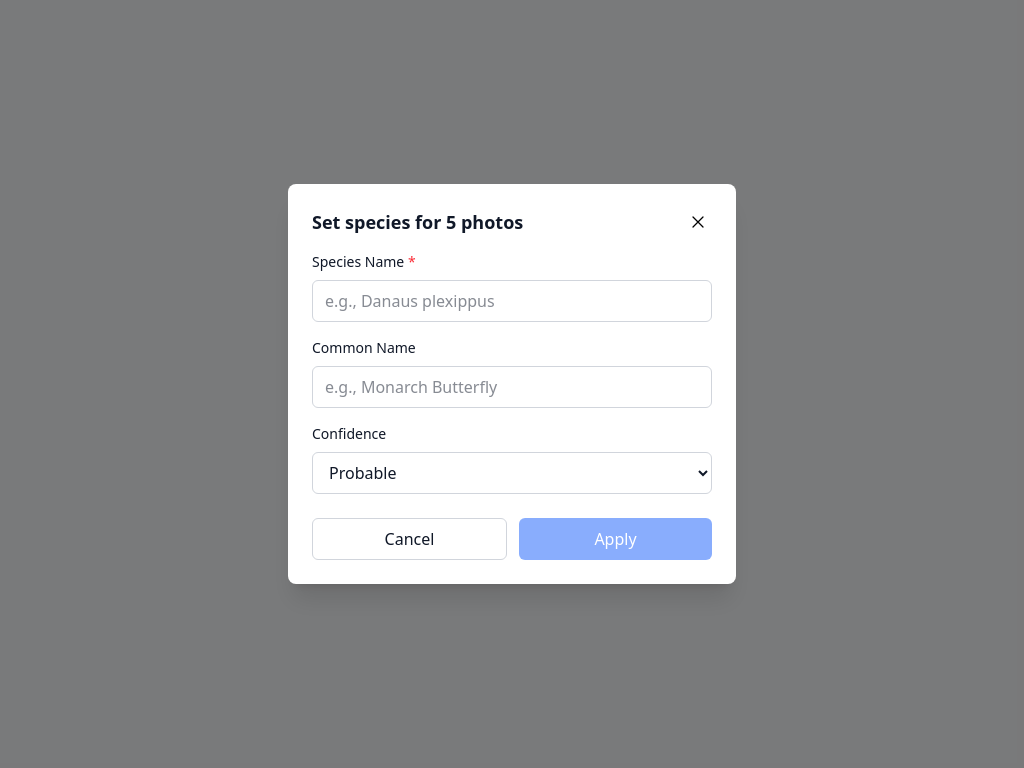
Test: BulkSpeciesModal › Validation › Apply button enabled when species name provided
The width and height of the screenshot is (1024, 768).
In the field labelled "Species Name *": (512,301) [312,280,712,322], type "Danaus plexippus"
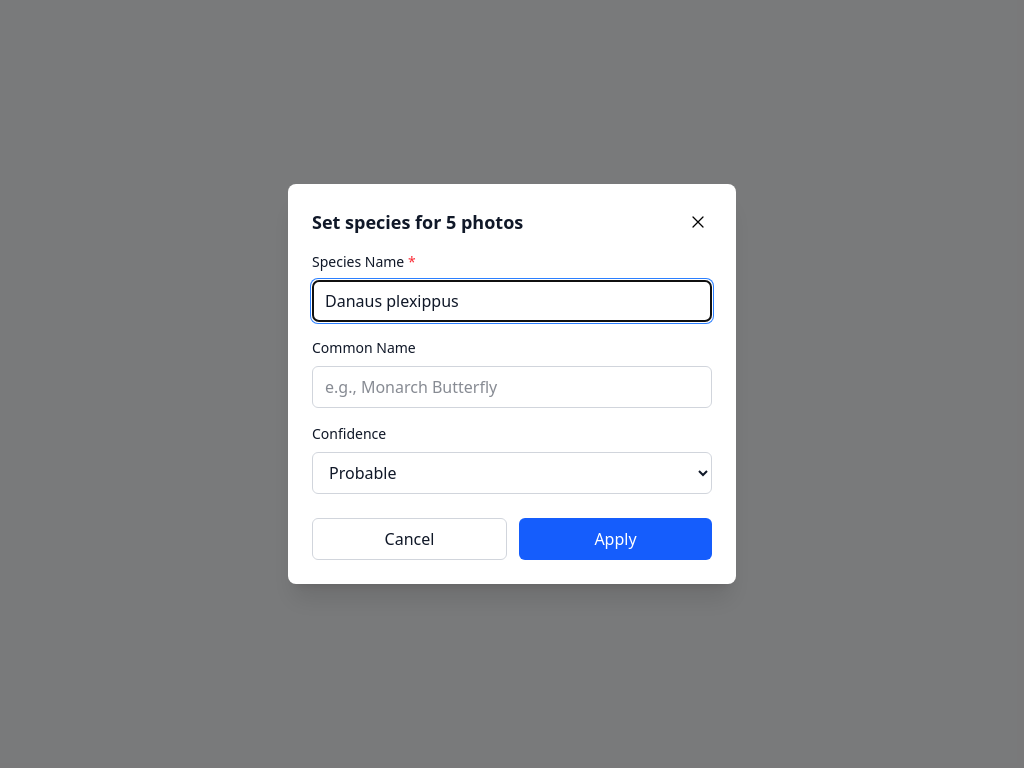
Now the button "Apply" is enabled, box [519,518,712,560]
